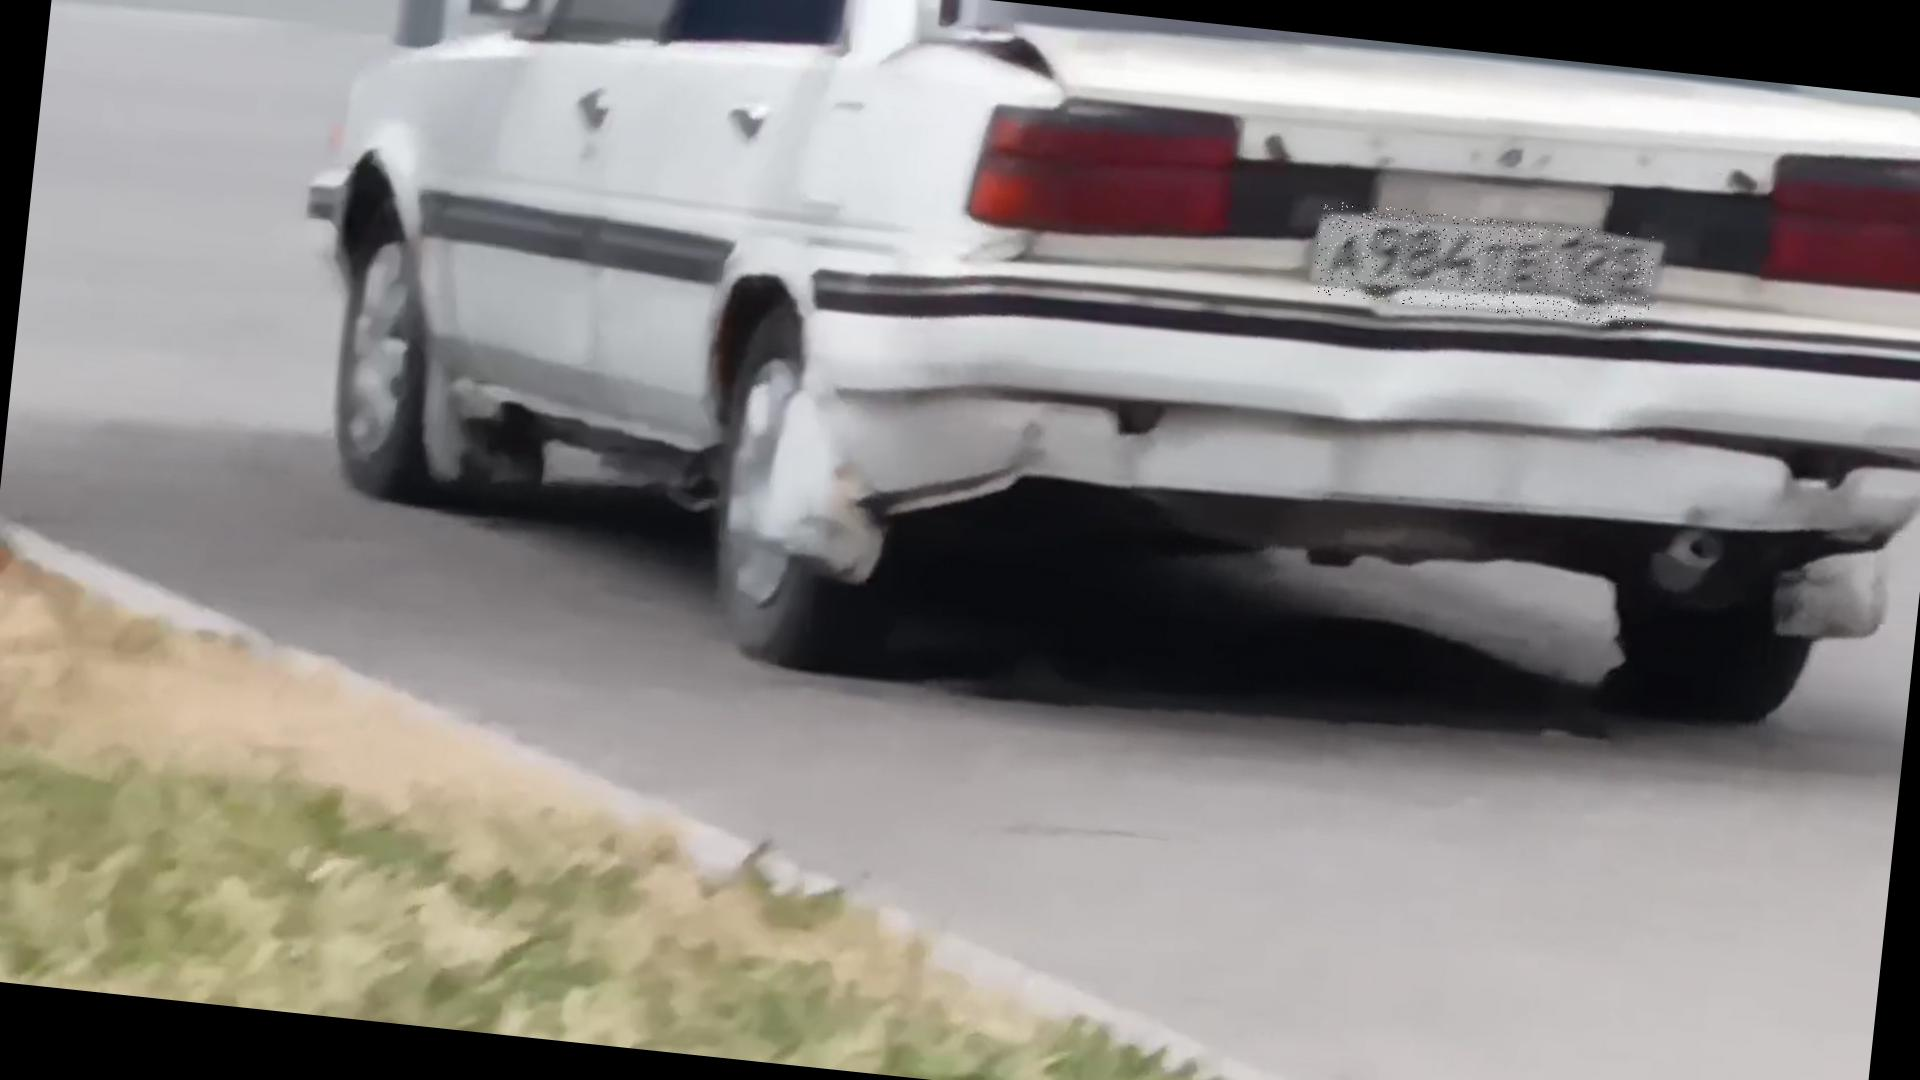plate: (1313, 201, 1659, 331)
